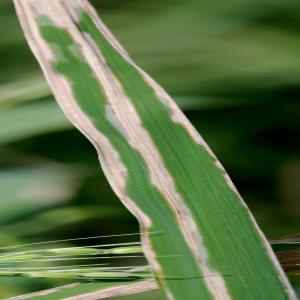Bacterial_Blight: (45, 1, 170, 226)
